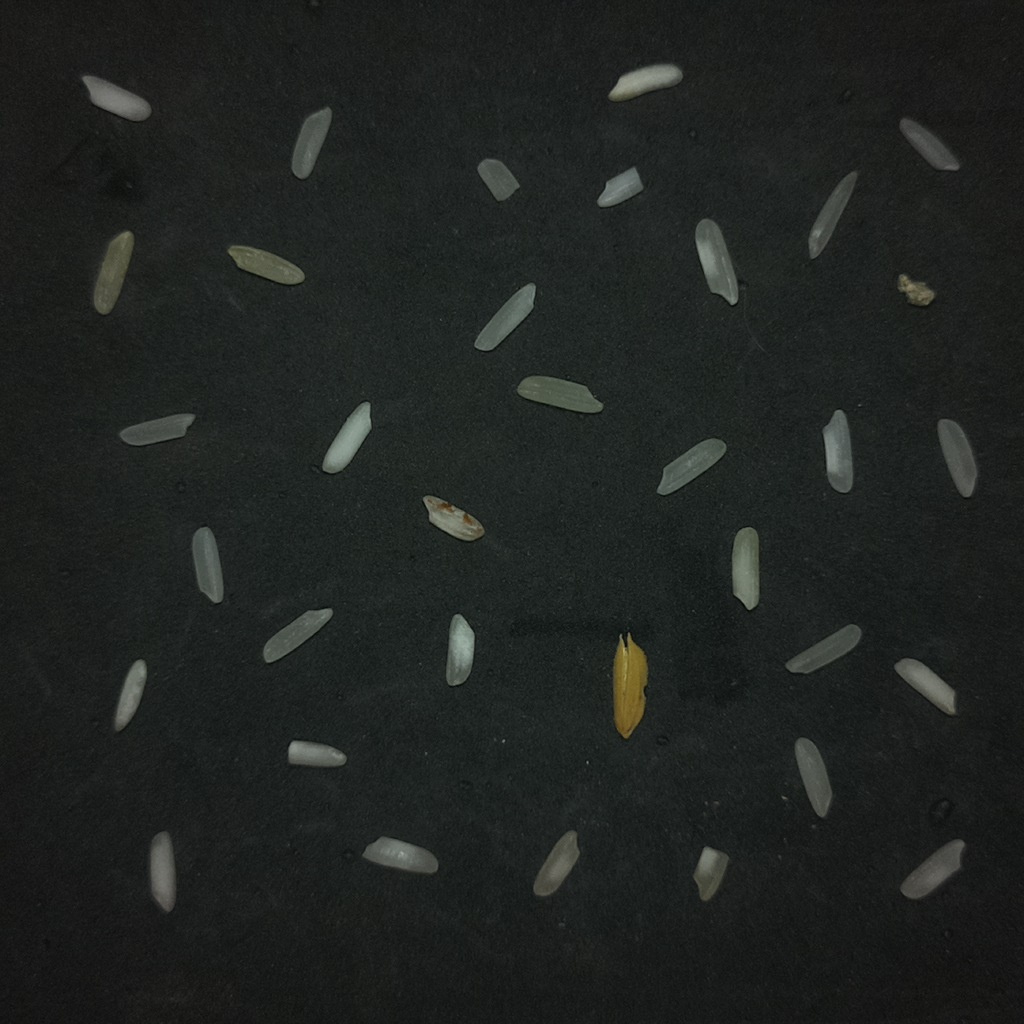broken: (533, 830, 580, 897), (362, 836, 438, 873), (118, 413, 194, 445), (693, 846, 728, 901), (477, 158, 519, 201), (898, 273, 935, 306)
chalky: (322, 401, 371, 473), (894, 658, 955, 715), (81, 74, 151, 121), (608, 63, 682, 101), (113, 659, 147, 731), (732, 527, 759, 610), (149, 831, 175, 912), (446, 613, 474, 685), (597, 166, 642, 207), (289, 740, 345, 767)
discolored: (94, 230, 133, 314), (228, 245, 304, 285)
paddy: (613, 633, 647, 738)
red: (422, 496, 483, 541)
whole: (808, 171, 857, 258), (474, 283, 535, 350), (657, 438, 726, 495), (900, 839, 964, 899), (263, 609, 332, 663), (695, 218, 738, 304), (786, 624, 861, 673), (517, 376, 602, 413), (899, 118, 959, 170), (937, 419, 976, 497), (291, 107, 332, 180), (795, 737, 832, 817), (822, 410, 854, 494), (192, 526, 223, 603)
